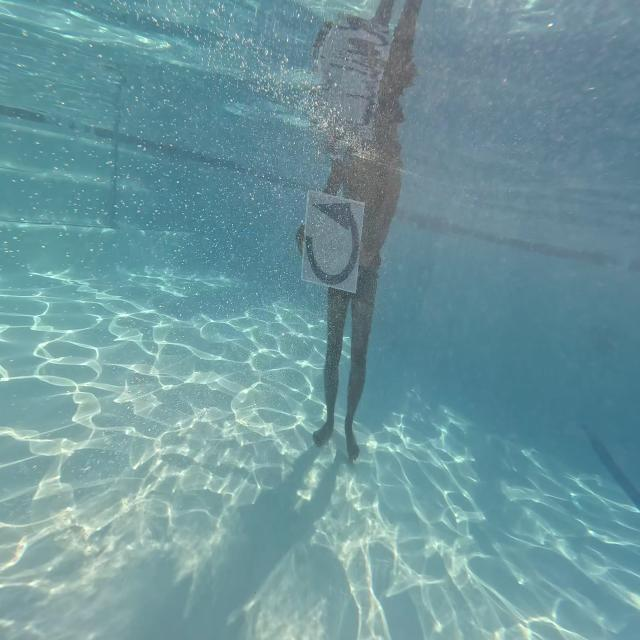blue_side: (303, 189, 362, 290)
